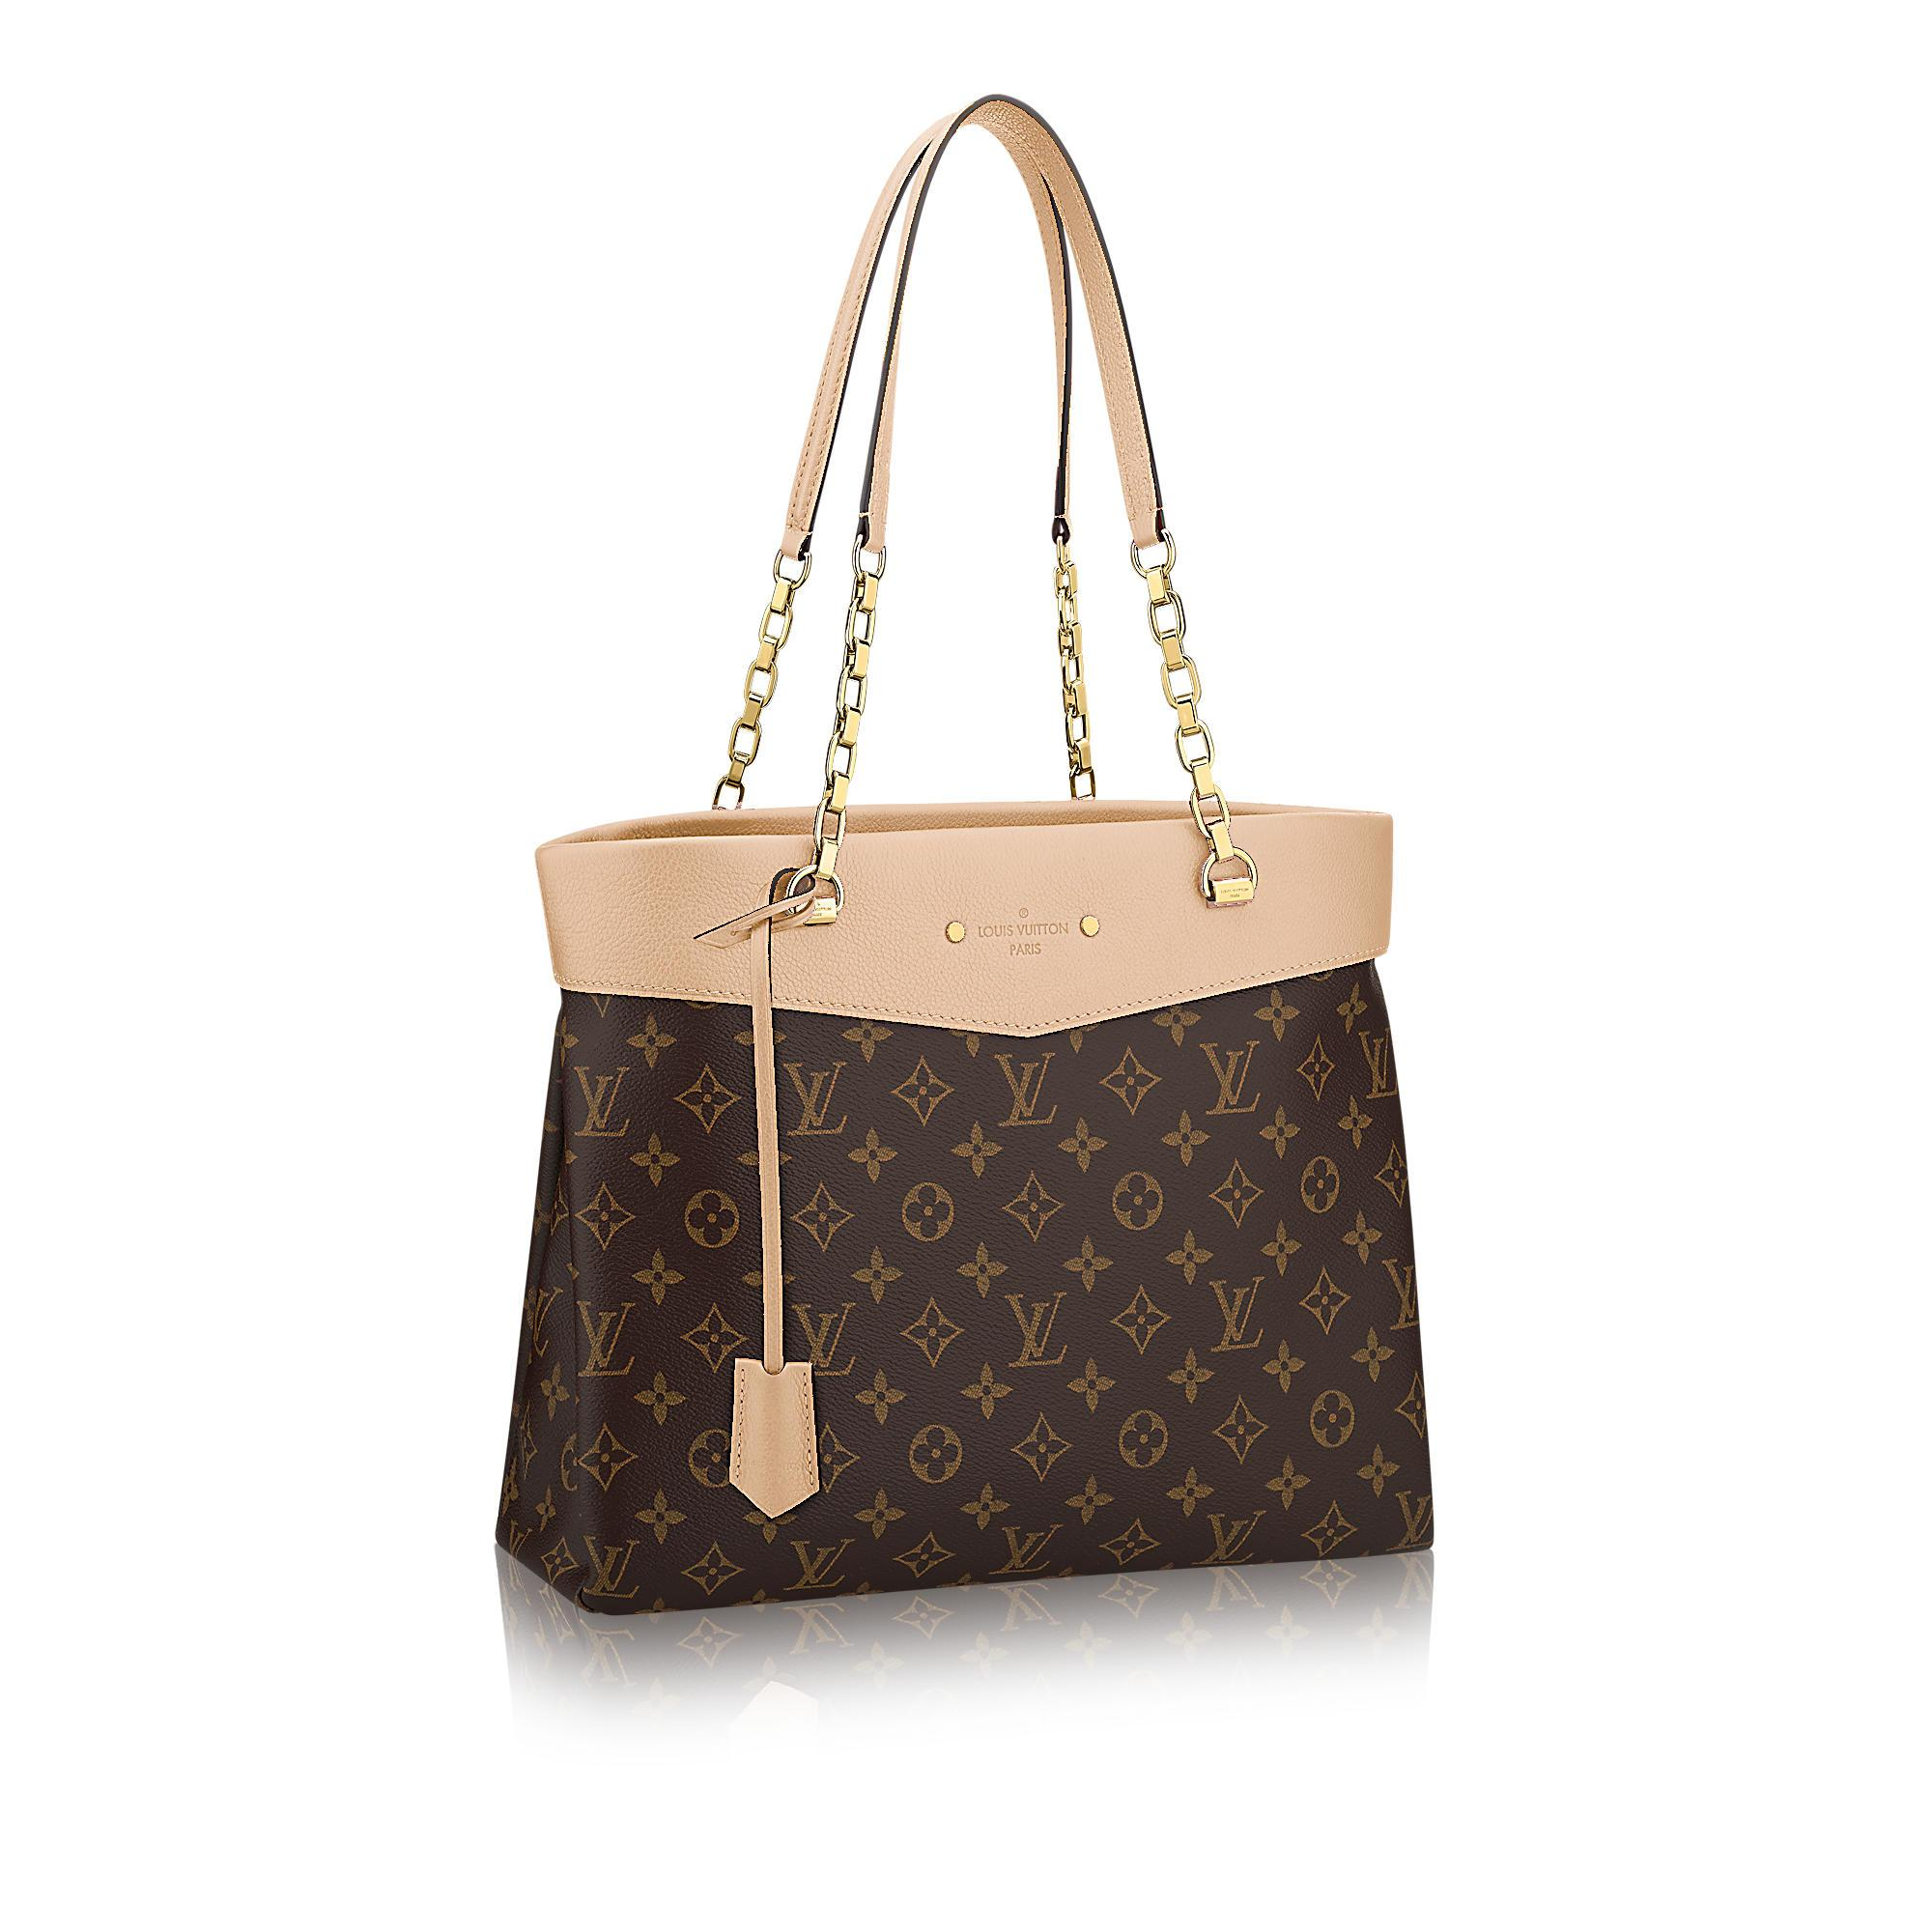LOUIS-VUITTON: (780, 1054, 853, 1139), (787, 1299, 858, 1382), (571, 1299, 642, 1380), (564, 1063, 637, 1141), (991, 1051, 1058, 1129), (1194, 1039, 1261, 1116), (1003, 1288, 1067, 1369), (1205, 1276, 1265, 1352), (582, 1532, 644, 1605), (1196, 1509, 1269, 1566), (786, 1536, 855, 1592), (991, 1523, 1063, 1576), (1376, 1254, 1419, 1334), (1353, 1024, 1398, 1100), (1385, 1488, 1435, 1552)
